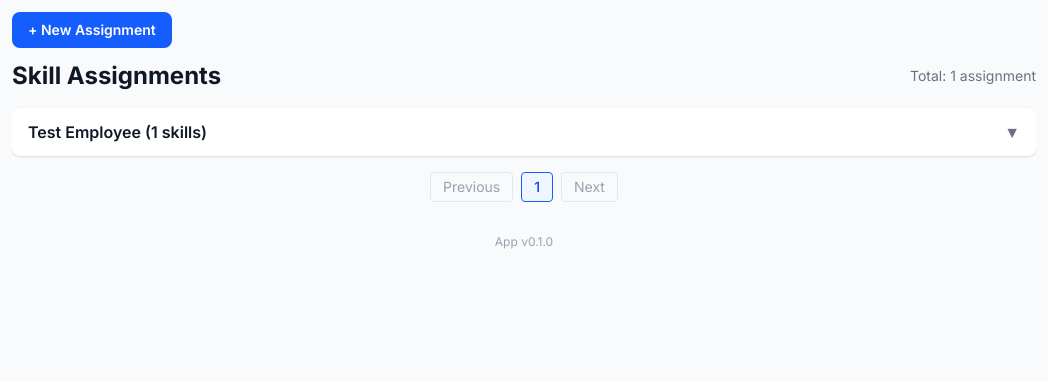
DashboardPage › displays Status badge with text (never color-only)
Step 1. Click the button "Test Employee (1 skills) ▼" → [84, 132], box [12,108,1036,156]
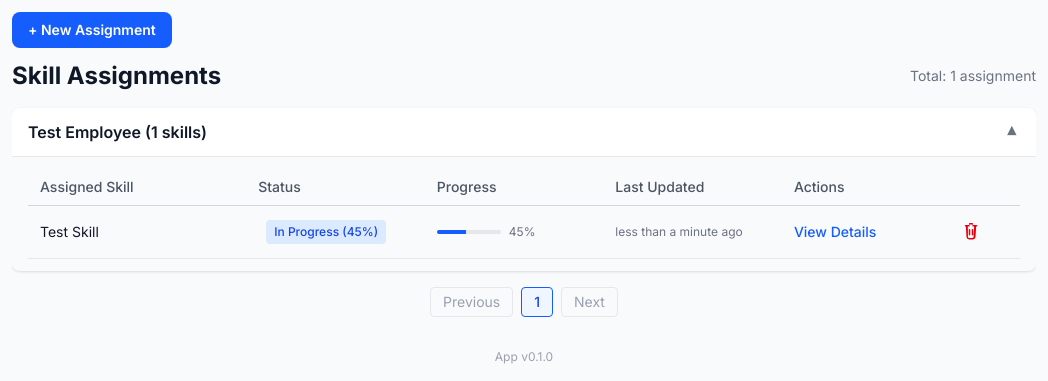
Expected: the text "In Progress (45%)" is shown, [266,220,386,244]
